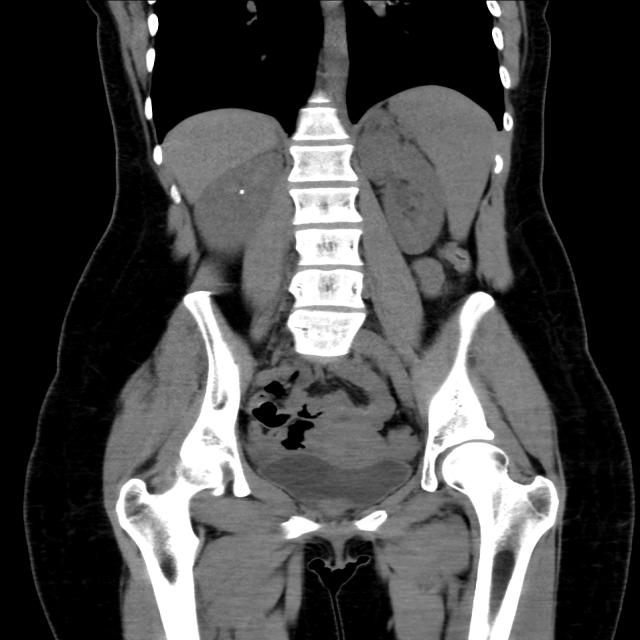kidneystone: (238, 189, 245, 194)
